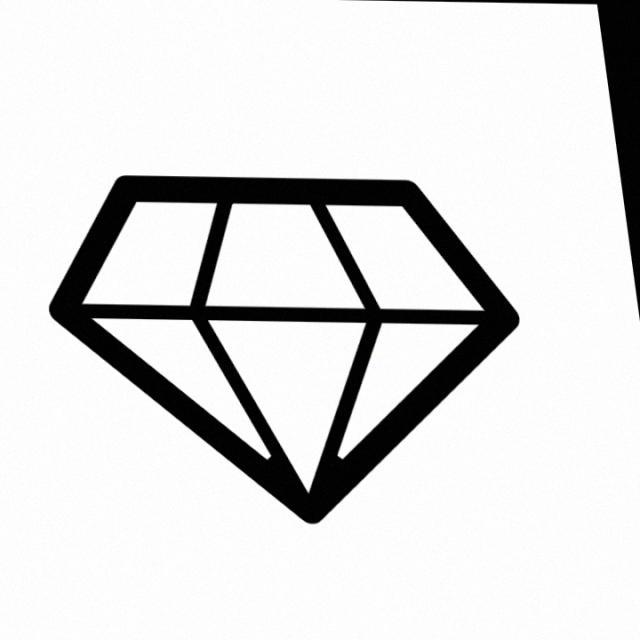diamond: (44, 170, 529, 534)
